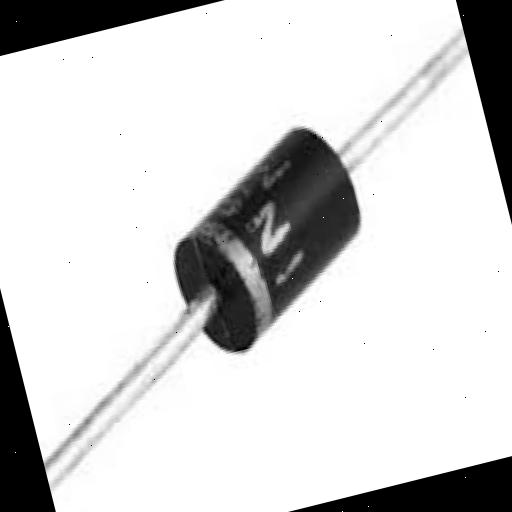DIODE: (61, 57, 497, 453)
